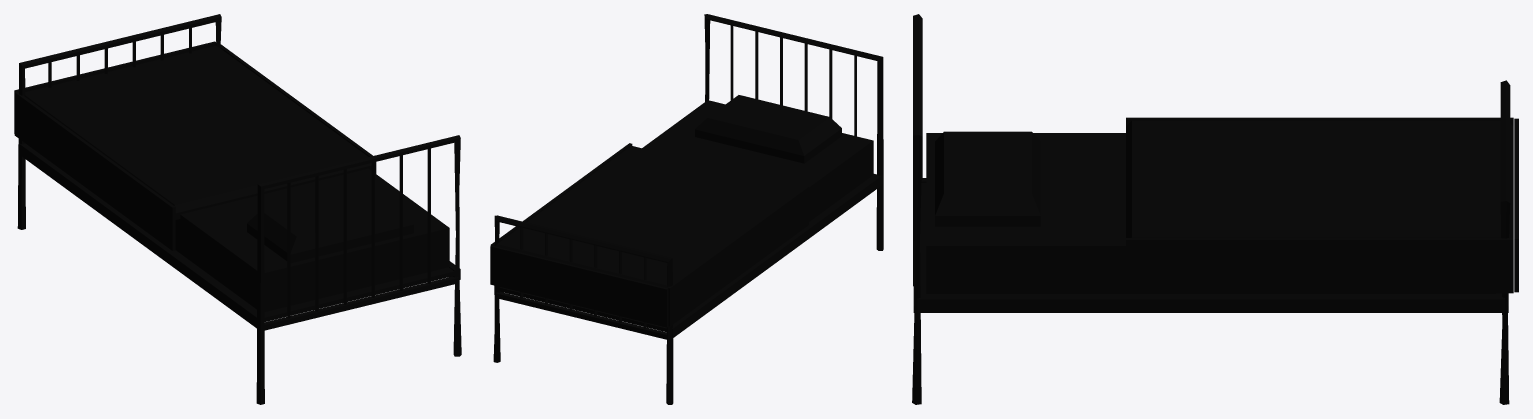
The model's file is SM_bed_single_metal.fbx.
3 views of the same model, side by side, from view 1: azimuth 30°, elevation 25°; view 2: azimuth 150°, elevation 25°; view 3: azimuth 270°, elevation 25° (orthographic). The views are drawn at different scales.
Visible parts, largest first — view 1: bed_single_metal; view 2: bed_single_metal; view 3: bed_single_metal.
Boxes of the visible parts, box(x1,y1,x2,y2) form: bed_single_metal: box(14, 14, 461, 404); bed_single_metal: box(490, 14, 883, 404); bed_single_metal: box(912, 14, 1518, 404).
Size of the model in its own units: 0.985 by 1.01 by 2.07.
